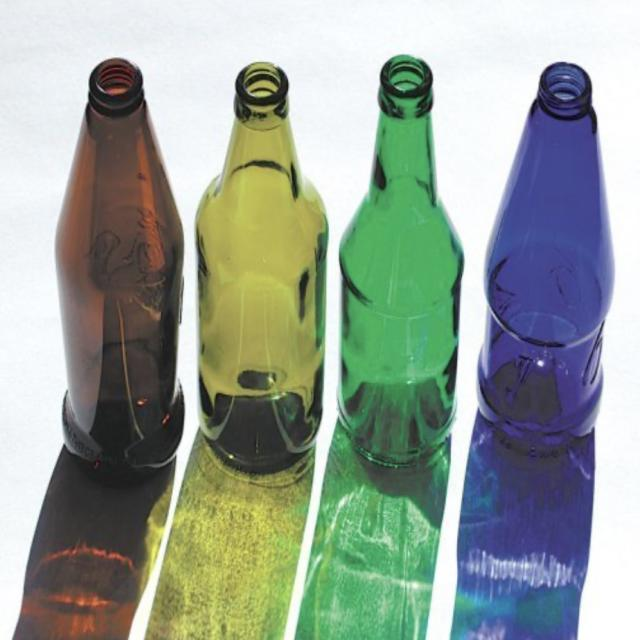recyclable: (472, 34, 627, 463), (45, 36, 192, 481), (329, 34, 474, 474), (191, 35, 332, 480)
